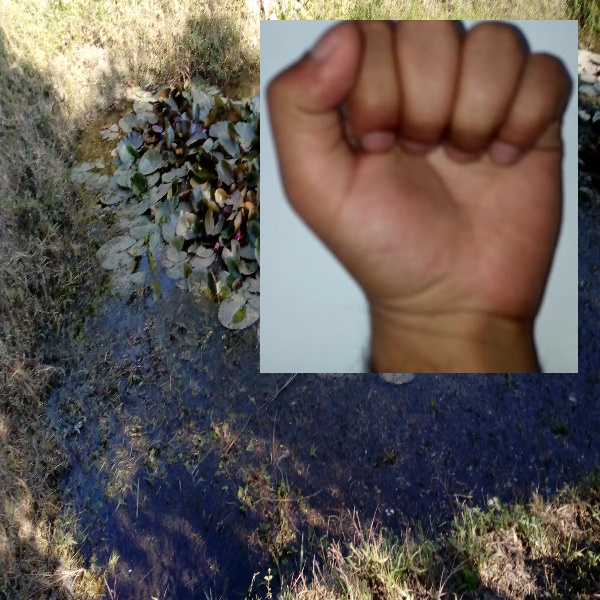A: (260, 20, 578, 373)
